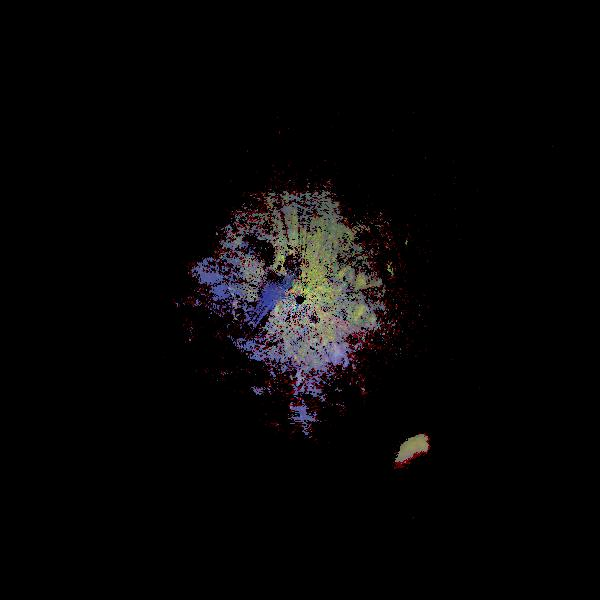roost: (382, 409, 508, 535)
